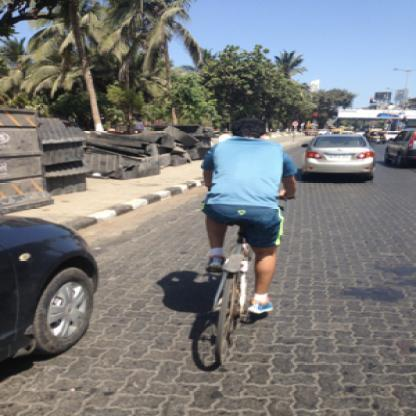Without Helmet: (228, 110, 271, 142)
